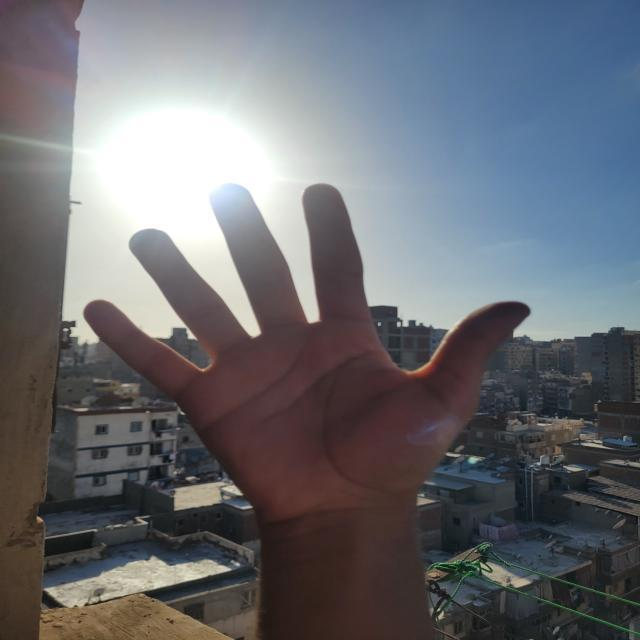Open Hand: (80, 182, 534, 522)
